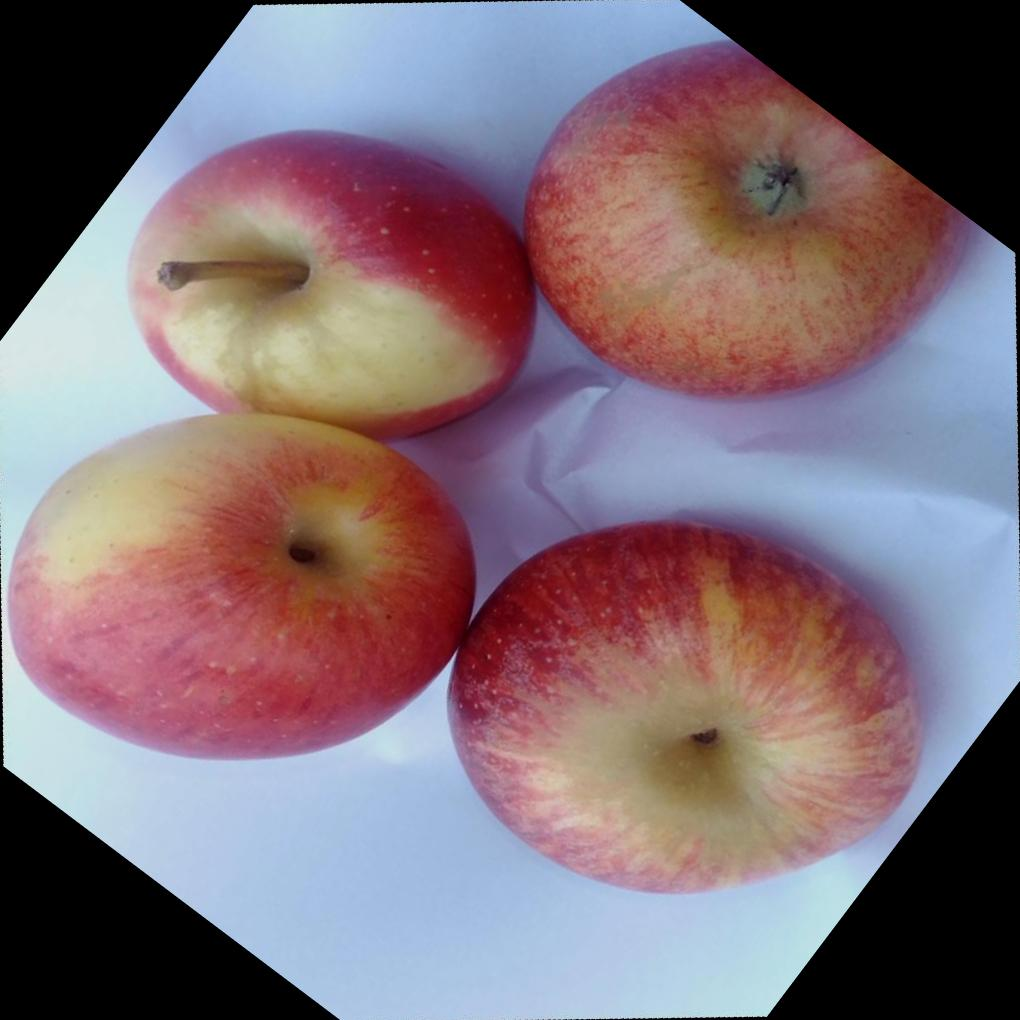FreshGuava: (3, 35, 961, 892)
